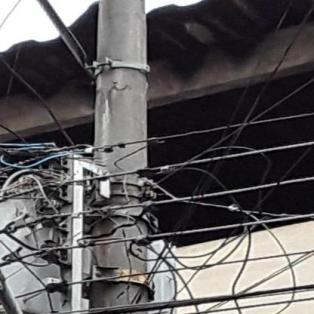Poste: (64, 3, 167, 314)
